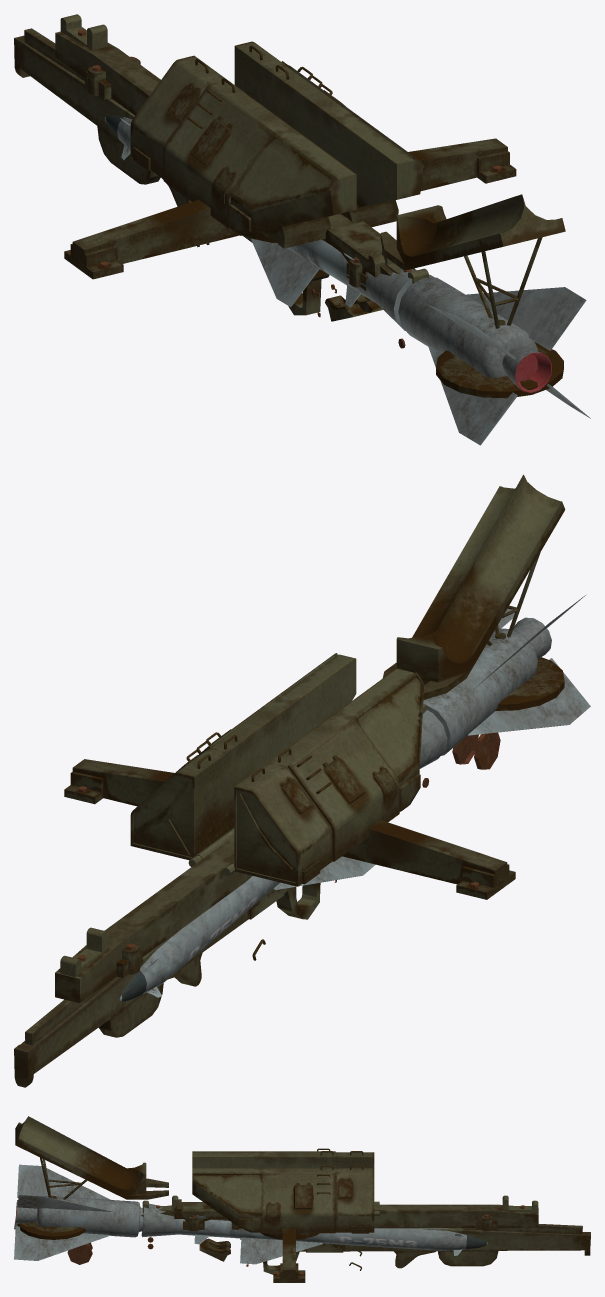
The picture shows the model from 3 angles, top to bottom: view 1: azimuth 30°, elevation 25°; view 2: azimuth 150°, elevation 25°; view 3: azimuth 270°, elevation 25°; orthographic projection. The views are drawn at different scales.
Visible parts, largest first — view 1: turret|part2, body|base2, body|part7, booster|rocket2, booster|wings4 (×2), cradle|part1, body|base1, body|detail5, missile|wings2, turret|part4, turret|detail2.002, turret|part5 (+7 smaller); view 2: turret|part2, body|part7, body|base2, cradle|part1, body|base1, booster|rocket2, missile|rocket1, booster|wings4, turret|detail2.002, body|detail5, booster|bolt, body|detail7 (+2 smaller); view 3: turret|part2, cradle|part1, body|part7, booster|wings4 (×2), body|base1, missile|rocket1, booster|rocket2, missile|wings2, turret|detail2, body|base2, booster|rocket1, body|detail5 (+7 smaller).
Part boxes in pixels (<box>): turret|part2: <box>130,41,424,235</box>; body|base2: <box>64,138,516,279</box>; body|part7: <box>380,194,565,270</box>; booster|rocket2: <box>398,277,539,390</box>; booster|wings4 (×2): <box>427,287,590,445</box>; cradle|part1: <box>14,28,329,315</box>; body|base1: <box>55,31,416,275</box>; body|detail5: <box>436,319,563,398</box>; missile|wings2: <box>250,238,319,306</box>; turret|part4: <box>263,200,398,248</box>; turret|detail2.002: <box>167,83,235,203</box>; turret|part5: <box>325,221,385,277</box>; turret|part2: <box>130,653,423,886</box>; body|part7: <box>382,474,565,699</box>; body|base2: <box>64,759,515,899</box>; cradle|part1: <box>14,882,320,1087</box>; body|base1: <box>55,836,252,1003</box>; booster|rocket2: <box>423,617,551,755</box>; missile|rocket1: <box>140,876,279,994</box>; booster|wings4: <box>468,658,590,735</box>; turret|detail2.002: <box>281,755,396,814</box>; body|detail5: <box>495,632,564,710</box>; booster|bolt: <box>422,732,500,787</box>; body|detail7: <box>60,704,428,977</box>; turret|part2: <box>192,1151,374,1233</box>; cradle|part1: <box>263,1224,590,1274</box>; body|part7: <box>15,1116,168,1199</box>; booster|wings4 (×2): <box>14,1164,112,1260</box>; body|base1: <box>141,1204,538,1235</box>; missile|rocket1: <box>178,1219,466,1250</box>; booster|rocket2: <box>15,1196,143,1237</box>; missile|wings2: <box>240,1237,322,1264</box>; turret|detail2: <box>266,1178,352,1221</box>; body|base2: <box>273,1229,305,1282</box>; booster|rocket1: <box>141,1203,179,1237</box>; body|detail5: <box>17,1196,85,1239</box>.
Bounding box in the file's own units: 5.44 × 3.46 × 11.45.
Materials: 46 (46 with a texture image).
